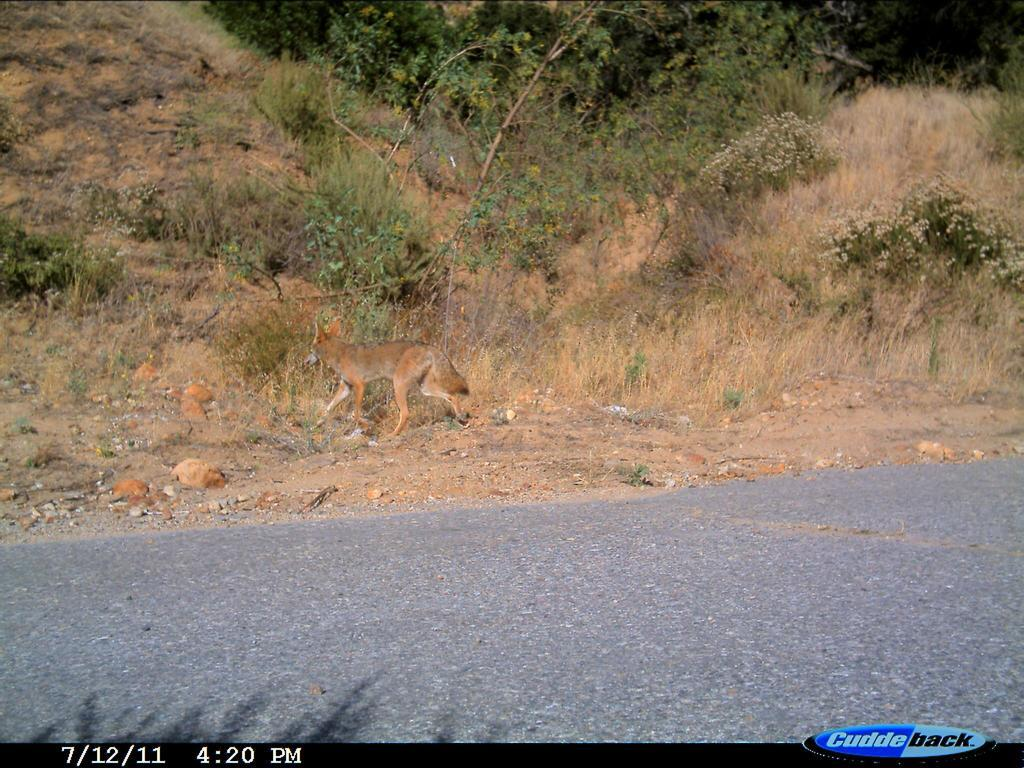coyote: (297, 309, 475, 441)
